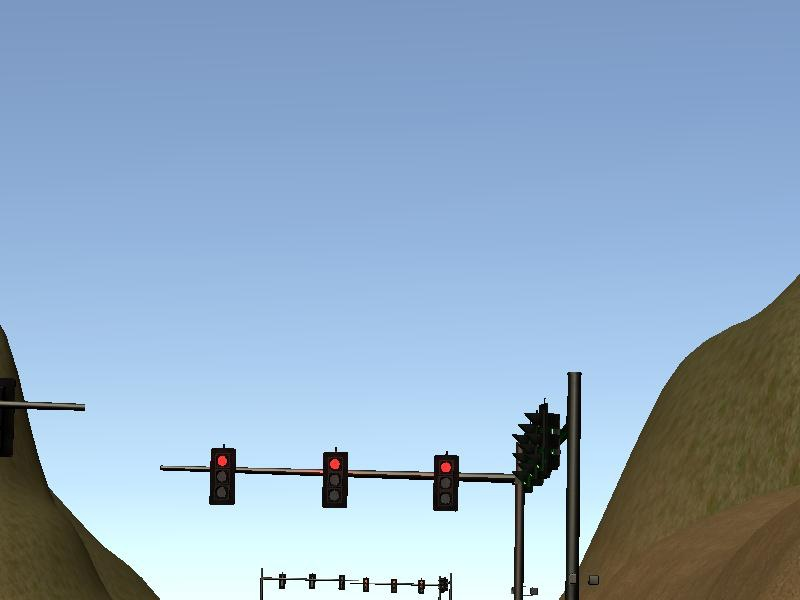Red: (207, 446, 237, 510), (320, 448, 350, 512), (431, 452, 461, 516)
